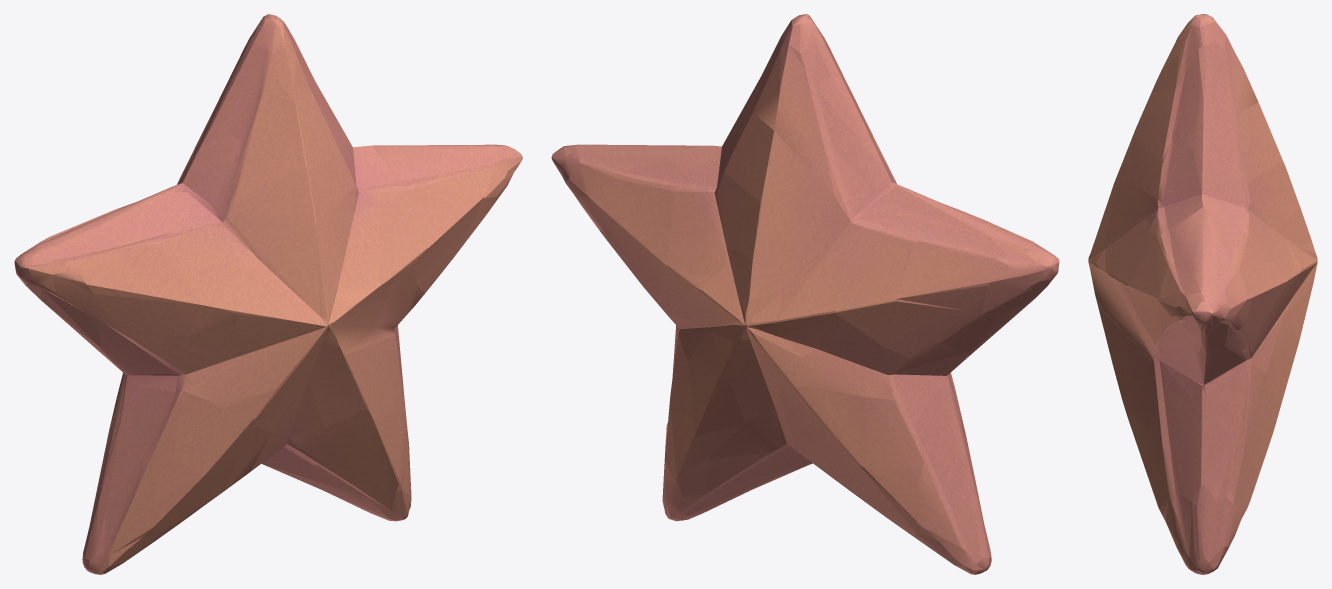
Rendered from pedaco_estrela.glb.
3 views of the same model, side by side, from view 1: azimuth 30°, elevation 25°; view 2: azimuth 150°, elevation 25°; view 3: azimuth 270°, elevation 25° (orthographic). The views are drawn at different scales.
Size of the model in its own units: 1.87 by 1.9 by 0.7885.
Materials: 1 (1 with a texture image).
